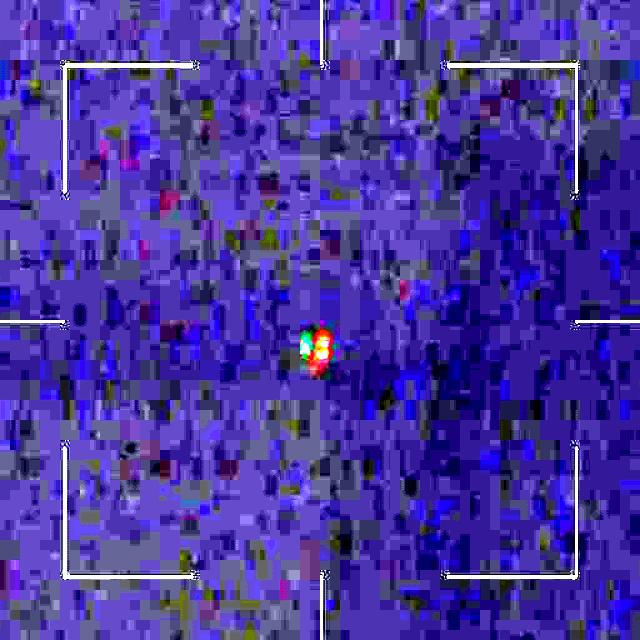bird: (299, 331, 330, 366)
